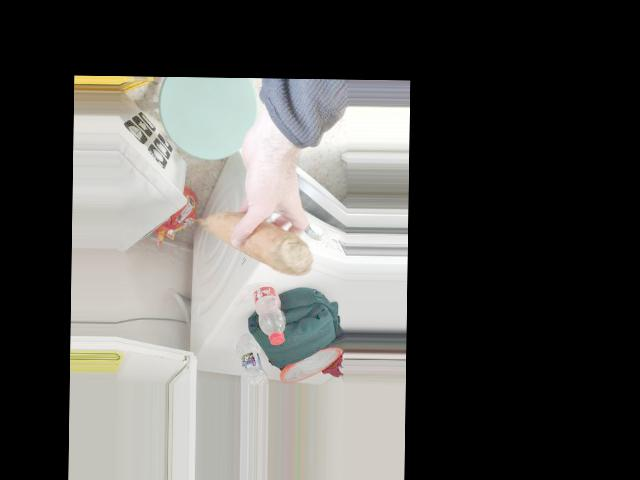sweet_potato: (207, 202, 306, 280)
